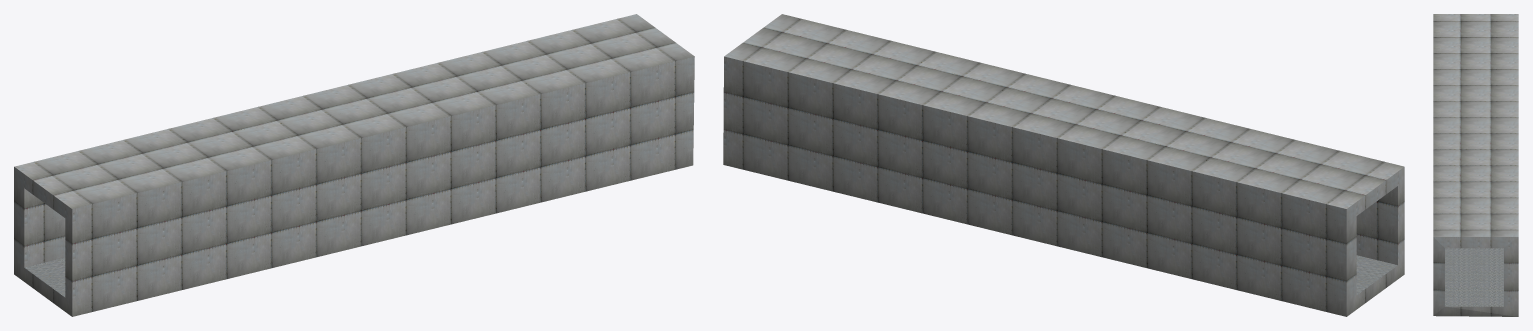
The model's file is straight_tunnel.FBX.
The picture shows the model from 3 angles, left to right: view 1: azimuth 30°, elevation 25°; view 2: azimuth 150°, elevation 25°; view 3: azimuth 270°, elevation 25°; orthographic projection. The views are drawn at different scales.
Visible parts, largest first — view 1: Straight_Tunnel; view 2: Straight_Tunnel; view 3: Straight_Tunnel.
Boxes of the visible parts, x1,y1,x2,y2 form: Straight_Tunnel: [14, 14, 694, 316]; Straight_Tunnel: [723, 14, 1404, 316]; Straight_Tunnel: [1433, 14, 1518, 316].
Size of the model in its own units: 523 by 87.1 by 84.38.
Materials: 2 (2 with a texture image).
